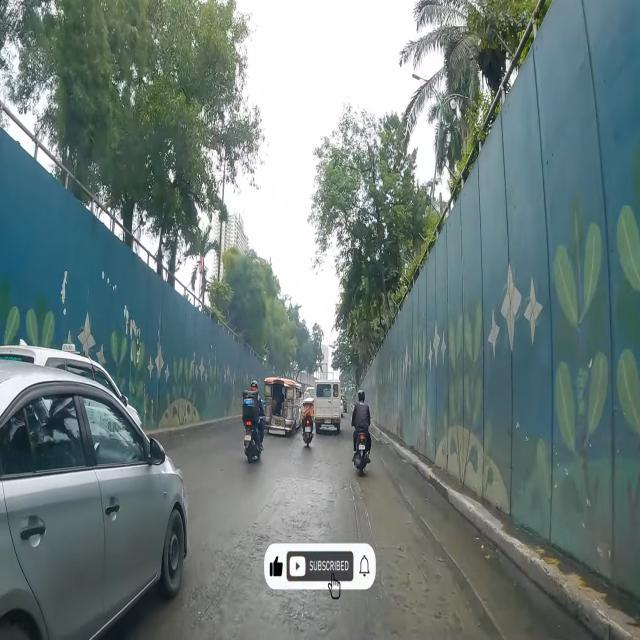car: (0, 358, 190, 640)
jeepney: (264, 377, 302, 438)
motorcycle: (242, 380, 266, 464), (350, 390, 372, 478), (302, 397, 314, 449)
truck: (314, 379, 341, 434)
